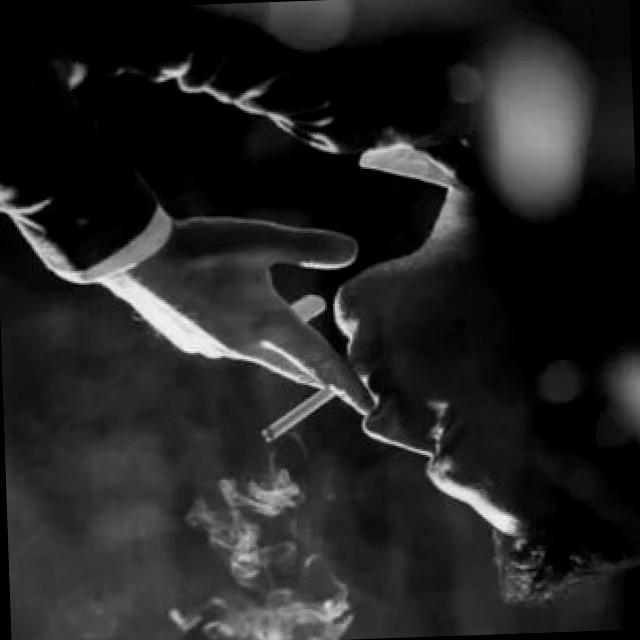smoke: (254, 377, 356, 450)
